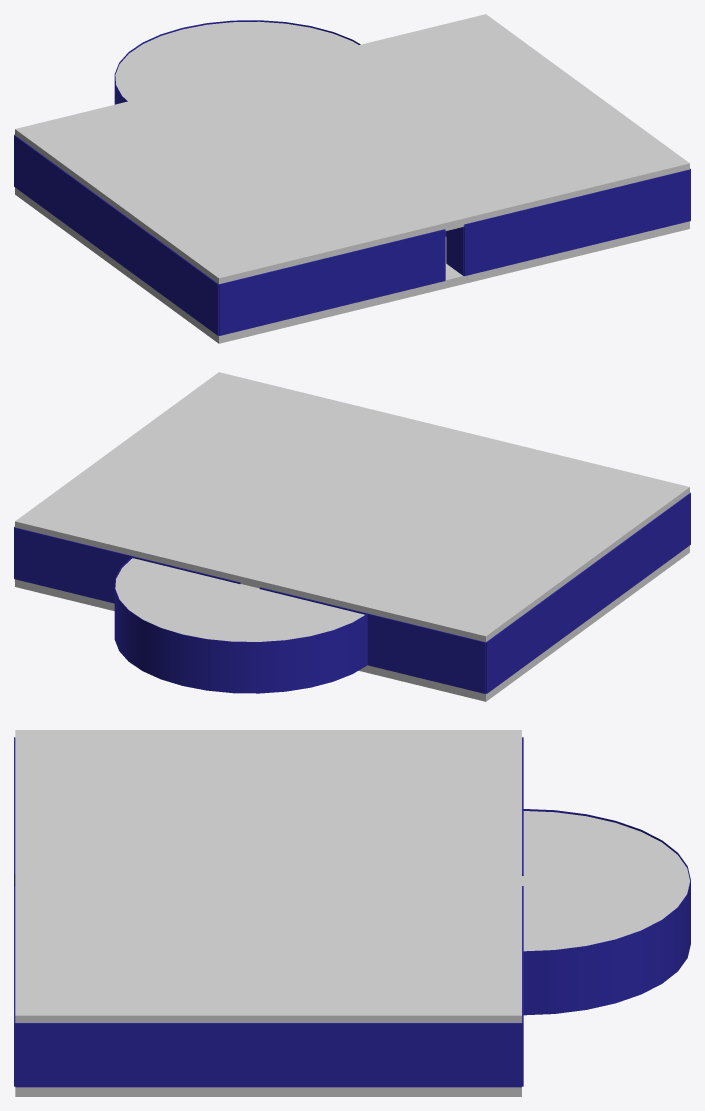
The model's file is House_0001.fbx.
3 renders of one model, top to bottom at view 1: azimuth 30°, elevation 25°; view 2: azimuth 150°, elevation 25°; view 3: azimuth 270°, elevation 25°, orthographic. The views are drawn at different scales.
Visible parts, largest first — view 1: Floor_1, BarFloor_1, SaunaSouthern, YogaSouthern, GymWestern, Floor, ShopSouthern, ReceptionSouthern, YogaWestern, ToiletsWestern, ReceptionHall_2, BarWalls; view 2: Floor_1, BarWalls, BarFloor_1, ToiletsNorth, GymWestern, ChangingNorthern, Floor, YogaWestern, ToiletsWestern; view 3: Floor_1, BarFloor_1, JacuzziroomEastern, BarWalls, ChangingEastern, SaunaEast, Floor.
Part boxes in pixels (x1=…): Floor_1: x1=15, y1=14, x2=689, y2=284; BarFloor_1: x1=115, y1=21, x2=358, y2=101; SaunaSouthern: x1=572, y1=169, x2=690, y2=249; YogaSouthern: x1=219, y1=255, x2=337, y2=335; GymWestern: x1=48, y1=160, x2=161, y2=293; Floor: x1=15, y1=187, x2=689, y2=343; ShopSouthern: x1=337, y1=229, x2=445, y2=307; ReceptionSouthern: x1=464, y1=198, x2=572, y2=275; YogaWestern: x1=161, y1=243, x2=218, y2=335; ToiletsWestern: x1=14, y1=135, x2=48, y2=210; ReceptionHall_2: x1=446, y1=225, x2=464, y2=275; BarWalls: x1=114, y1=20, x2=360, y2=104; Floor_1: x1=15, y1=372, x2=689, y2=642; BarWalls: x1=114, y1=556, x2=367, y2=693; BarFloor_1: x1=115, y1=558, x2=364, y2=641; ToiletsNorth: x1=367, y1=613, x2=485, y2=693; GymWestern: x1=520, y1=534, x2=634, y2=668; ChangingNorthern: x1=14, y1=527, x2=132, y2=603; Floor: x1=15, y1=545, x2=689, y2=701; YogaWestern: x1=633, y1=493, x2=690, y2=585; ToiletsWestern: x1=486, y1=617, x2=520, y2=693; Floor_1: x1=15, y1=730, x2=521, y2=1022; BarFloor_1: x1=522, y1=811, x2=689, y2=951; JacuzziroomEastern: x1=128, y1=1023, x2=381, y2=1087; BarWalls: x1=522, y1=809, x2=690, y2=1015; ChangingEastern: x1=381, y1=1023, x2=521, y2=1087; SaunaEast: x1=15, y1=1023, x2=127, y2=1087; Floor: x1=15, y1=1087, x2=521, y2=1096.
Bounding box in the file's own units: 2410 × 319 × 2405.
